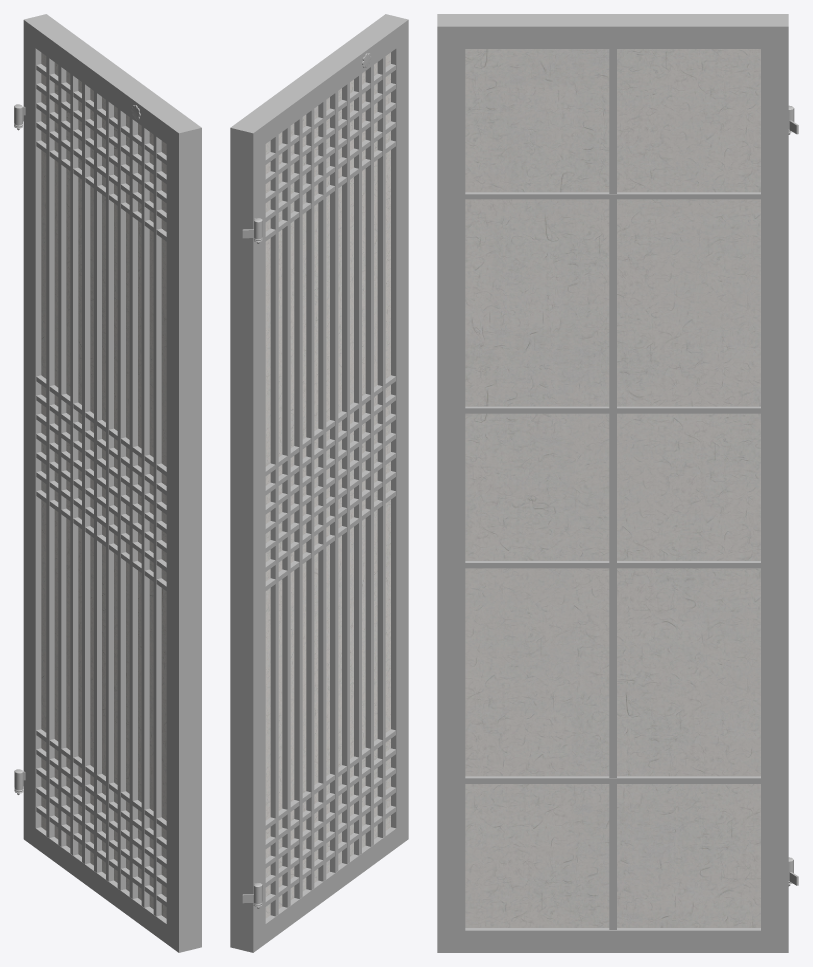
Rendered from SM_Door01I.fbx.
3 renders of one model, left to right at view 1: azimuth 30°, elevation 25°; view 2: azimuth 150°, elevation 25°; view 3: azimuth 270°, elevation 25°, orthographic. The views are drawn at different scales.
Parts seen in each view (by area): view 1: SM_Door01I; view 2: SM_Door01I; view 3: SM_Door01I.
Boxes of the visible parts, x1,y1,x2,y2 form: SM_Door01I: (14, 14, 201, 952); SM_Door01I: (230, 14, 408, 952); SM_Door01I: (437, 14, 798, 952).
Bounding box in the file's own units: 6.56 × 57.05 × 161.
